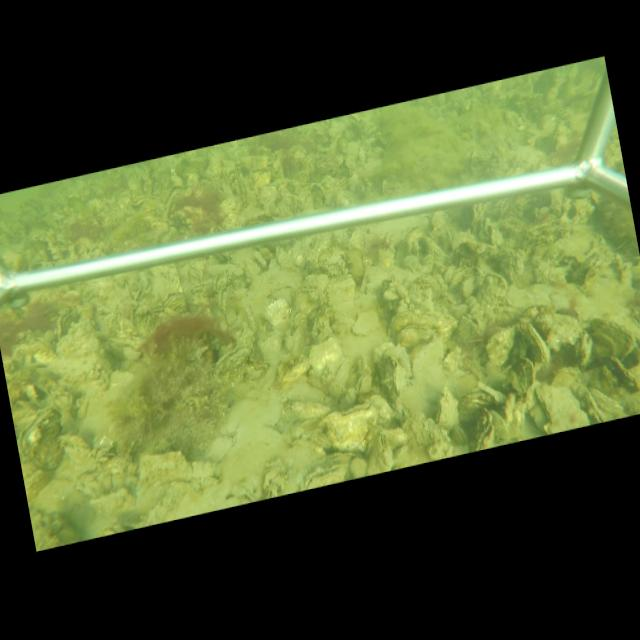Oyster-Closed: (323, 400, 377, 450), (535, 382, 589, 429), (587, 387, 624, 420), (325, 274, 357, 312), (213, 345, 250, 377), (383, 355, 406, 406), (525, 321, 550, 364), (610, 355, 639, 392), (284, 310, 306, 356), (396, 323, 432, 347), (474, 408, 494, 446), (333, 357, 352, 389), (451, 425, 468, 445)
Oyster-Indeterminate: (533, 310, 583, 350), (587, 317, 635, 357), (484, 326, 516, 368), (308, 335, 344, 369), (509, 357, 536, 394)
